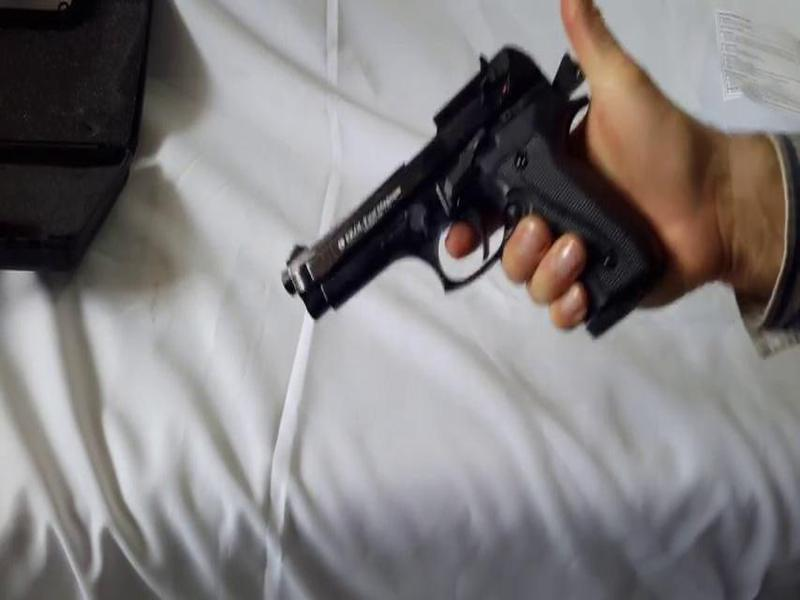Pistola: (236, 60, 666, 369)
